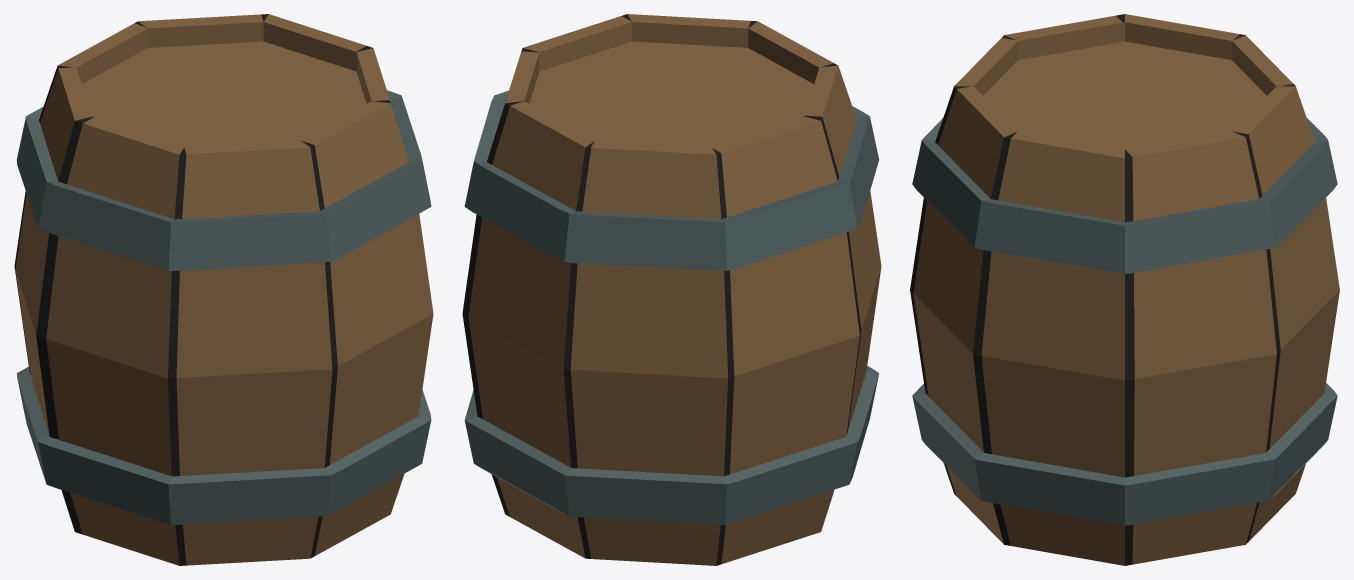
Rendered from Barrel_3_Brown.fbx.
The picture shows the model from 3 angles, left to right: view 1: azimuth 30°, elevation 25°; view 2: azimuth 150°, elevation 25°; view 3: azimuth 270°, elevation 25°; orthographic projection.
Parts seen in each view (by area): view 1: Barrel_3_Brown_Part_1, Barrel_3_Brown_Part_3, Barrel_3_Brown_Part_2; view 2: Barrel_3_Brown_Part_1, Barrel_3_Brown_Part_3, Barrel_3_Brown_Part_2; view 3: Barrel_3_Brown_Part_1, Barrel_3_Brown_Part_3, Barrel_3_Brown_Part_2.
Part boxes in pixels (bbox=[...]): Barrel_3_Brown_Part_1: bbox=[15, 14, 433, 565]; Barrel_3_Brown_Part_3: bbox=[16, 90, 431, 524]; Barrel_3_Brown_Part_2: bbox=[14, 14, 390, 565]; Barrel_3_Brown_Part_1: bbox=[468, 14, 881, 565]; Barrel_3_Brown_Part_3: bbox=[464, 90, 879, 524]; Barrel_3_Brown_Part_2: bbox=[462, 14, 861, 565]; Barrel_3_Brown_Part_1: bbox=[913, 14, 1339, 565]; Barrel_3_Brown_Part_3: bbox=[912, 118, 1337, 525]; Barrel_3_Brown_Part_2: bbox=[910, 14, 1295, 565].
Size of the model in its own units: 95.61 by 100 by 95.61.
